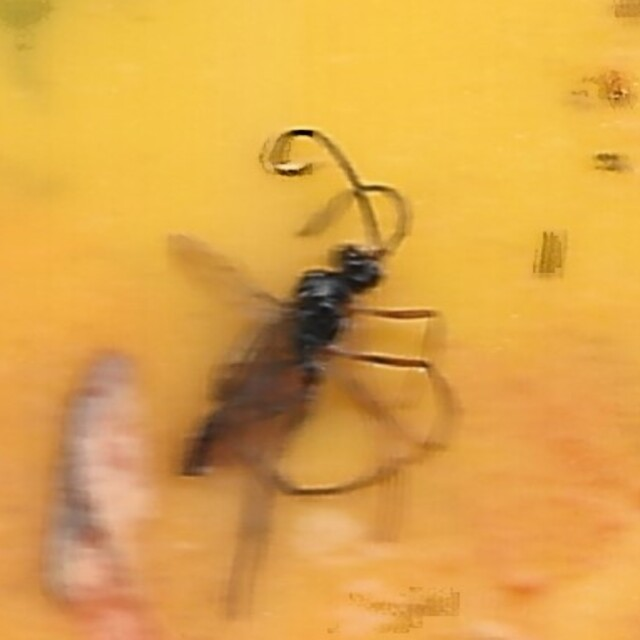Hymenoptera: (167, 133, 473, 507)
